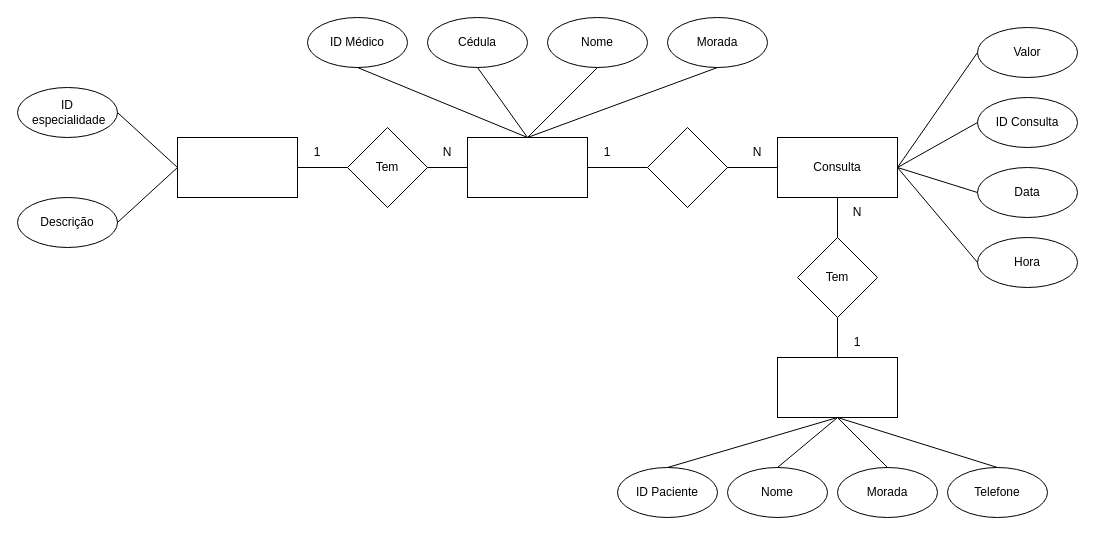
Image size: 1095x535. Some labels were removed from this diagram. Here are the shapes that lost their labels. From the top down, the centre of each, then its label:
At (237,167): "Especialidade".
At (527,167): "Médico".
At (687,167): "Atende".
At (837,387): "Paciente".
